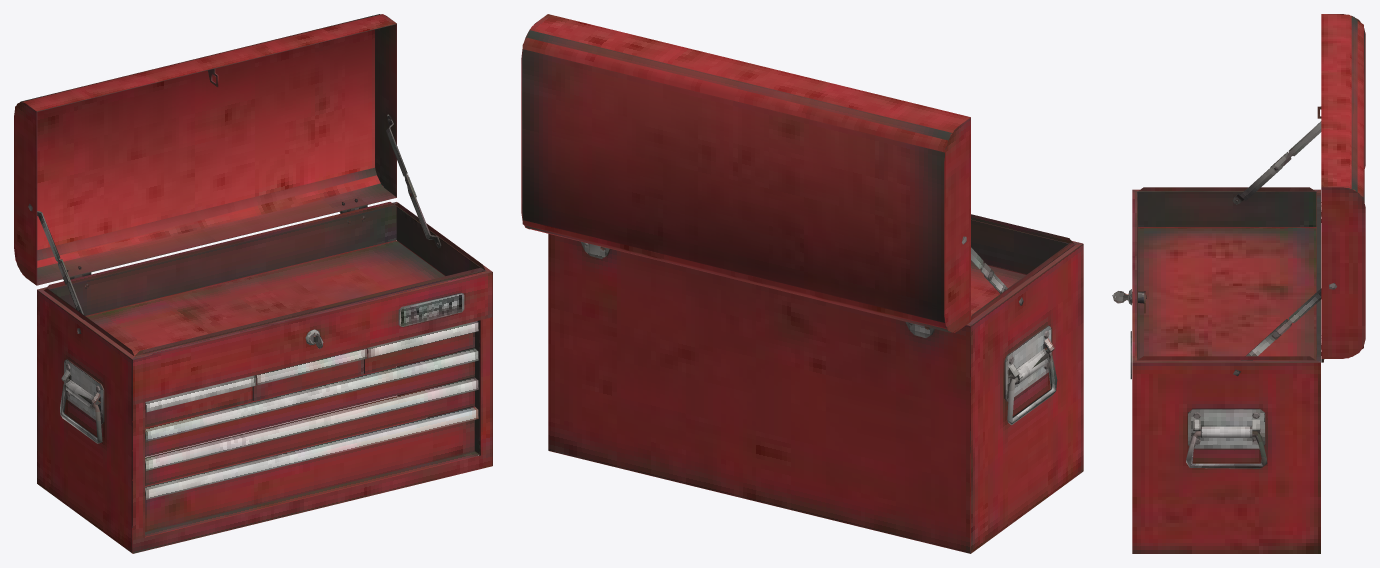
The model's file is metal_tool_chest.glb.
3 views of the same model, side by side, from view 1: azimuth 30°, elevation 25°; view 2: azimuth 150°, elevation 25°; view 3: azimuth 270°, elevation 25° (orthographic). The views are drawn at different scales.
Visible parts, largest first — view 1: metal_tool_chest_chest; view 2: metal_tool_chest_chest; view 3: metal_tool_chest_chest.
Part boxes in pixels (<box>): metal_tool_chest_chest: <box>14,14,492,553</box>; metal_tool_chest_chest: <box>521,14,1083,553</box>; metal_tool_chest_chest: <box>1112,14,1365,553</box>.
Bounding box in the file's own units: 0.6854 × 0.6518 × 0.4085.
Materials: 1 (1 with a texture image).
